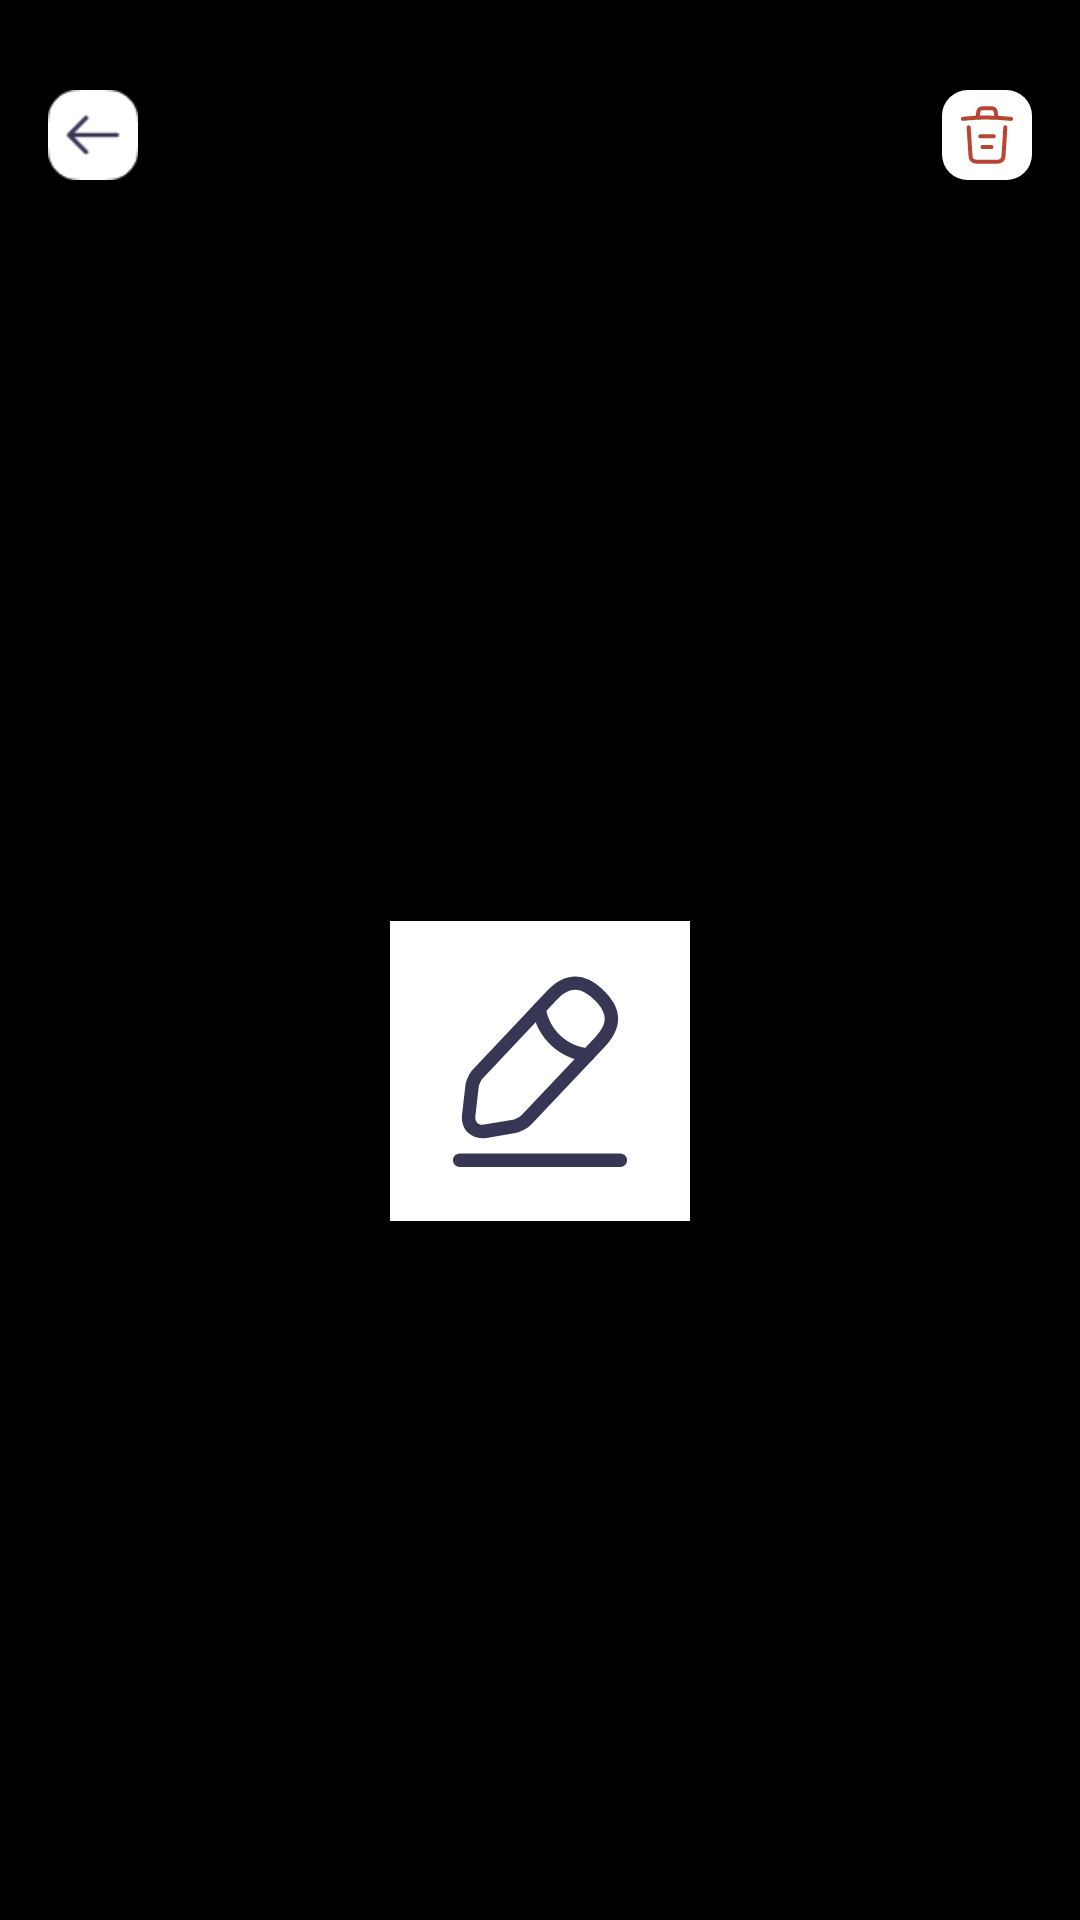

Named icons in this screenshot (1080 × 1920) and their bounding boxes, (x1, y1, x2, y2):
back: (48, 90, 138, 180)
delete: (942, 90, 1032, 180)
edit: (390, 921, 690, 1221)
